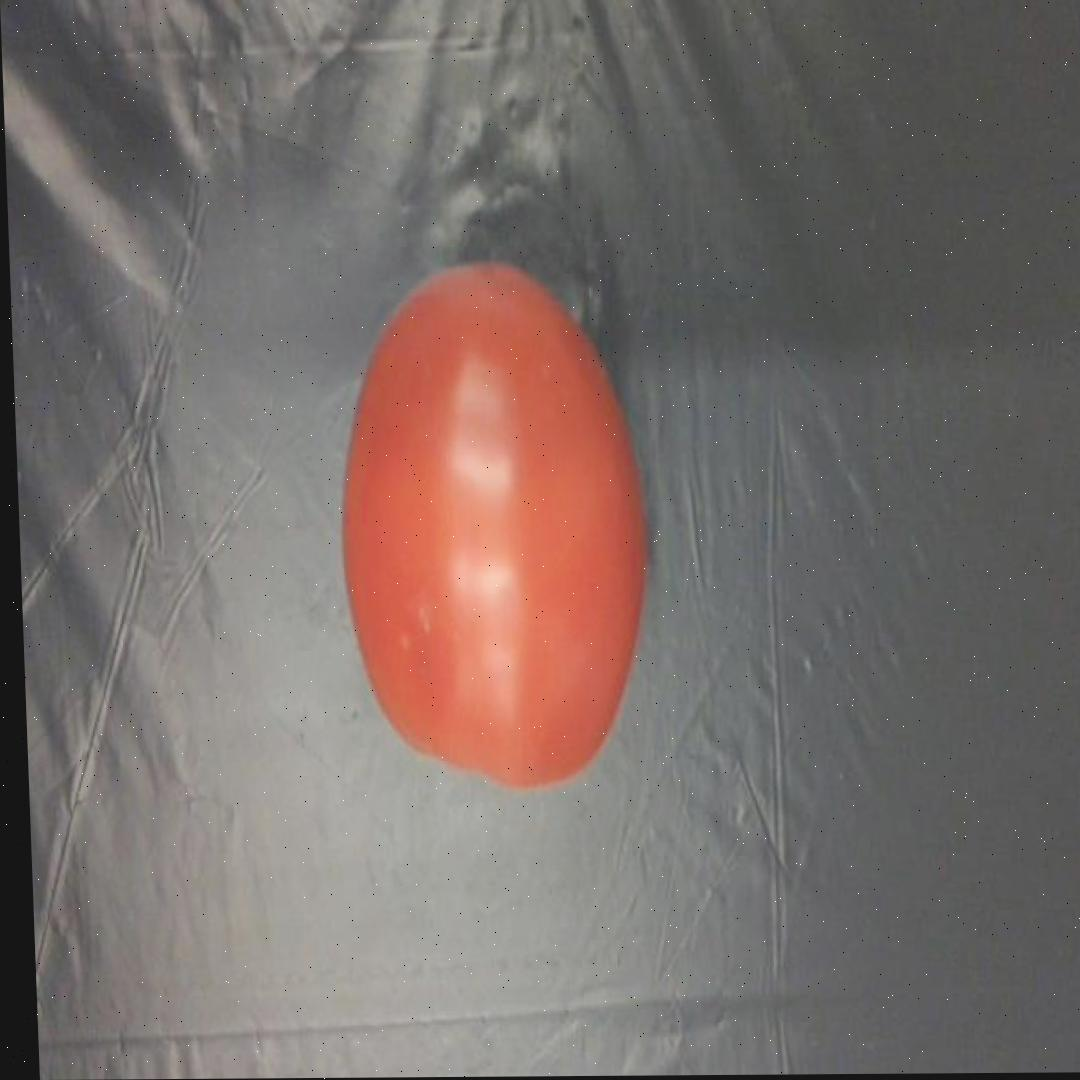matang: (331, 259, 651, 790)
